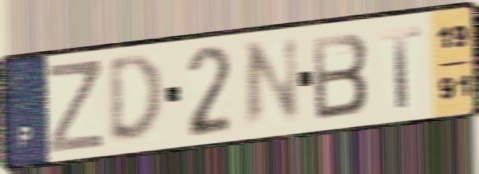2: (183, 43, 234, 141)
B: (309, 29, 372, 123)
D: (105, 51, 168, 147)
N: (240, 32, 303, 135)
T: (378, 23, 424, 111)
Z: (46, 58, 106, 157)
